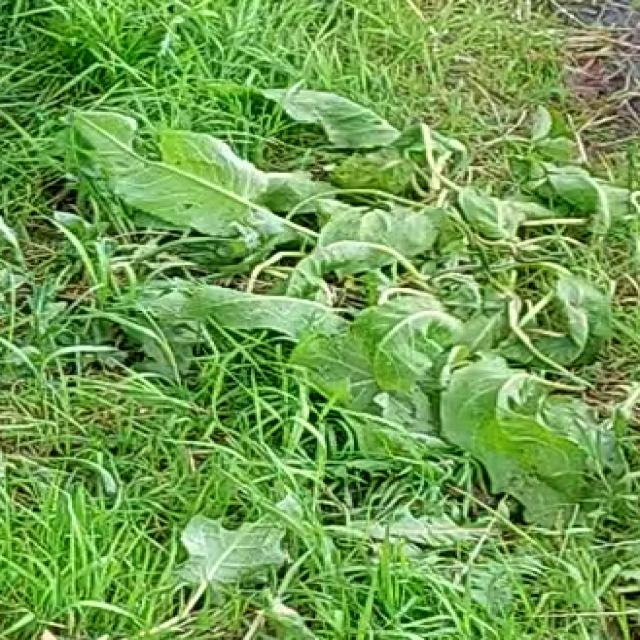organic waste: (128, 61, 609, 398)
